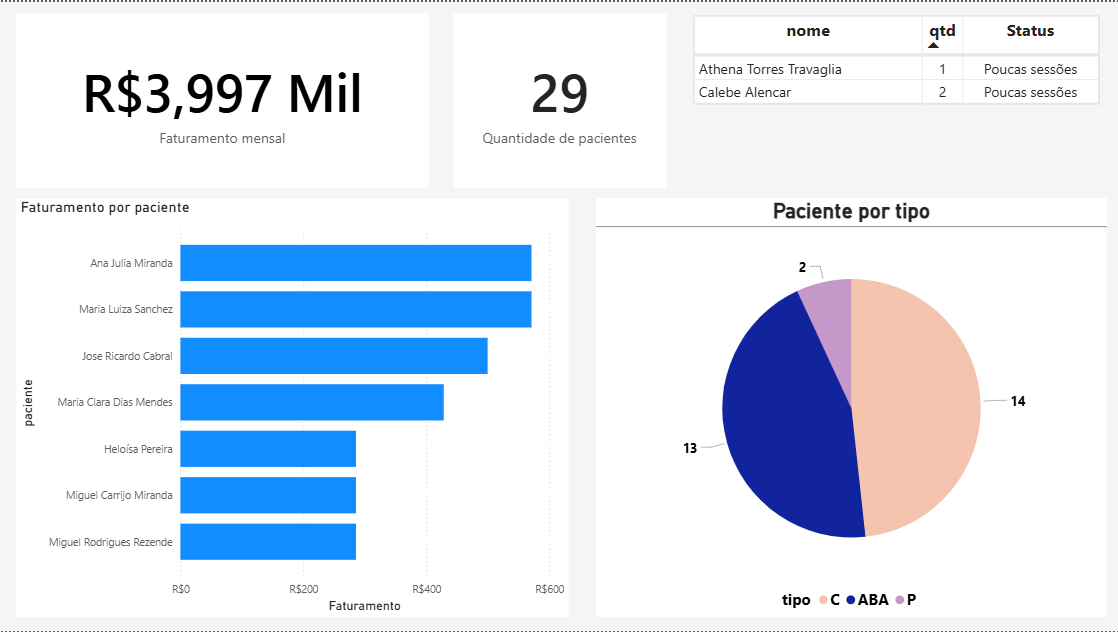

The dashboard page shown, as its layout file describes it:
{"tool":"powerbi","page":{"name":"Página 1","canvas":[1280,720],"ordinal":0},"visuals":[{"type":"cardVisual","fields":{"Data":["Página1.Faturamento"]},"box":[18.6,12.9,471.4,200],"z":0},{"type":"barChart","fields":{"Y":["Página1.Faturamento"],"Category":["Página1.nome"]},"box":[18.6,224.3,631.4,478.6],"z":1000},{"type":"pieChart","title":"Paciente por tipo","fields":{"Category":["Página1.tipo"],"Y":["CountNonNull(Página1.nome)"]},"box":[681,223.8,583.8,478.8],"z":2000},{"type":"cardVisual","fields":{"Data":["Count(Página1.nome)"]},"box":[518.6,12.9,242.9,200],"z":3000},{"type":"tableEx","fields":{"Values":["Página1.nome","Sum(Página1.qtd)","Página1.Status"]},"box":[785.7,10,480,195.7],"z":4000}]}

Visuals, with their boxes in screenshot pixels (x1, y1, x2, y2), scaled from the page's 1280x720 canvas onto the 1118x632 screenshot:
cardVisual - Página1.Faturamento: box=[16, 11, 428, 187]
barChart - Página1.Faturamento x Página1.nome: box=[16, 197, 568, 617]
"Paciente por tipo" pieChart: box=[595, 196, 1105, 617]
cardVisual - Count(Página1.nome): box=[453, 11, 665, 187]
tableEx - Página1.nome x Sum(Página1.qtd): box=[686, 9, 1106, 181]
